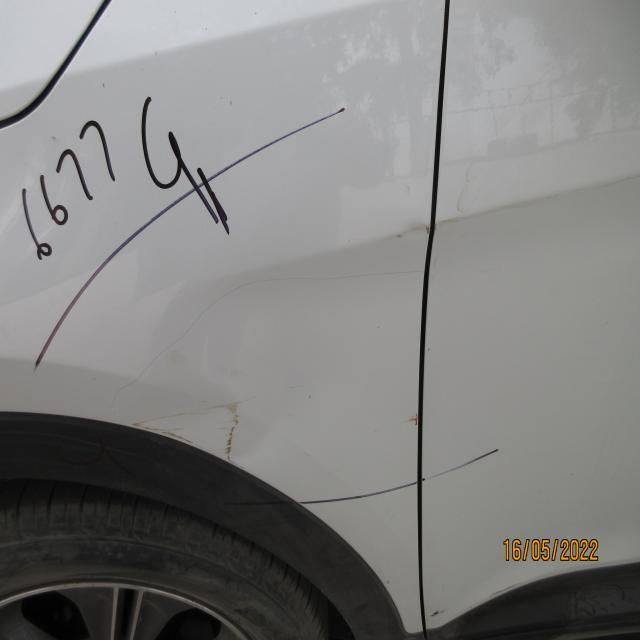damage: (131, 262, 312, 472)
